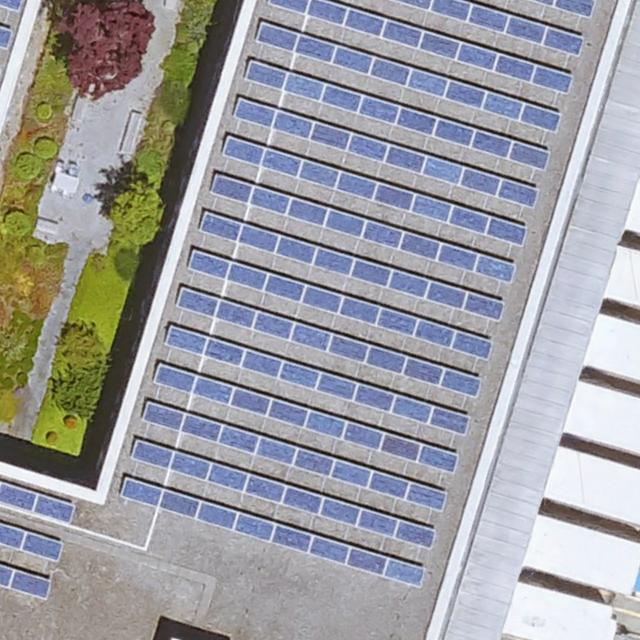tree: (61, 0, 155, 101), (108, 181, 164, 242)
